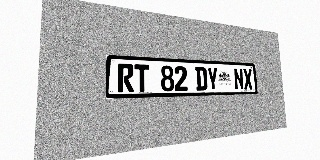2: (174, 66, 187, 91)
8: (160, 65, 174, 91)
D: (195, 67, 207, 91)
N: (233, 68, 244, 90)
R: (118, 63, 134, 92)
T: (134, 64, 150, 92)
X: (243, 68, 253, 90)
Y: (207, 67, 218, 90)
